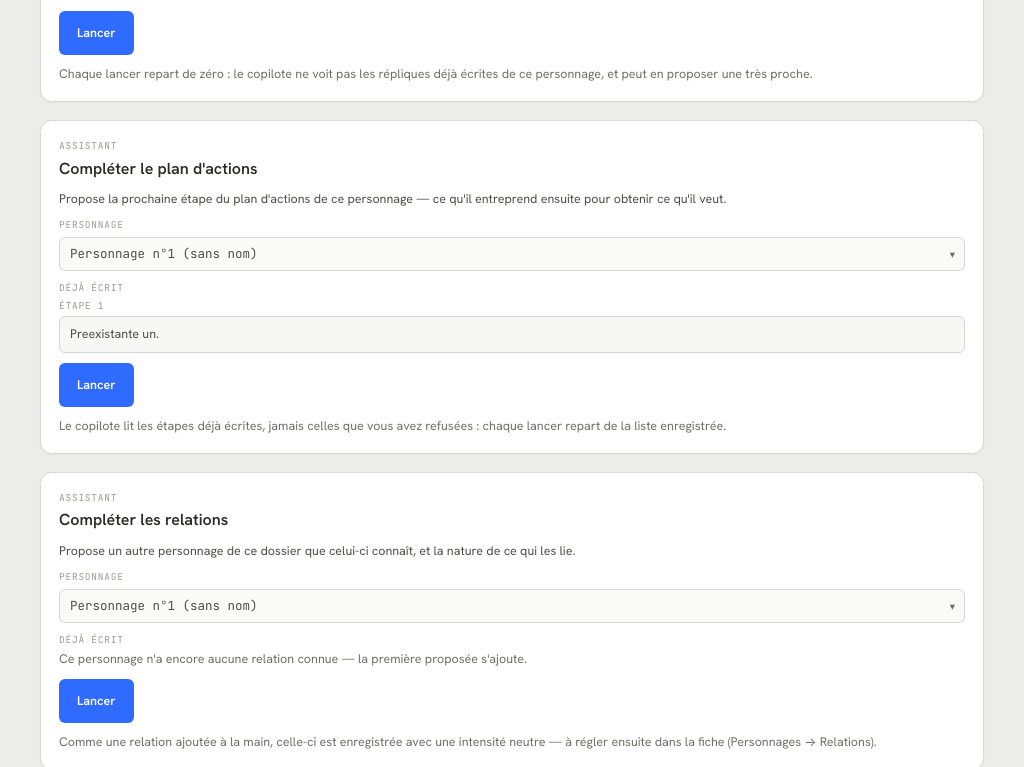
Test: planActions - etape posee par le CODE, 1 a k+N sans doublon › une etape ajoutee ENTRE le lancer et l acceptation : etape est pris sur la liste VIVE, pas sur le gel
The image size is (1024, 767).
(page scrolled)
# Le gel se fait ICI, sur UNE etape.
What coordinates should you click on to do the following:
click the button "Lancer" below "Preexistante un."
I would click on:
 (96, 385)
Its box is [59,363,134,407].
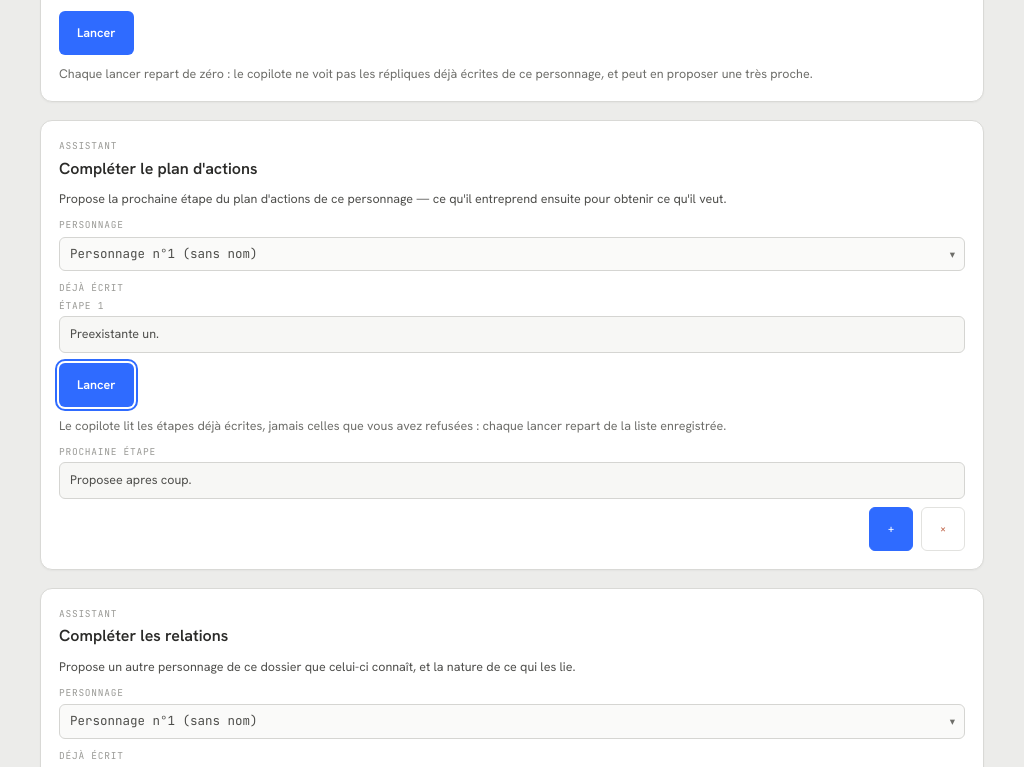
Result: the button named "Accepter la proposition" is shown
What coordinates should you click on to do the following:
click the button named "Accepter la proposition"
I would click on:
 (891, 529)
Its box is [869,507,913,551].
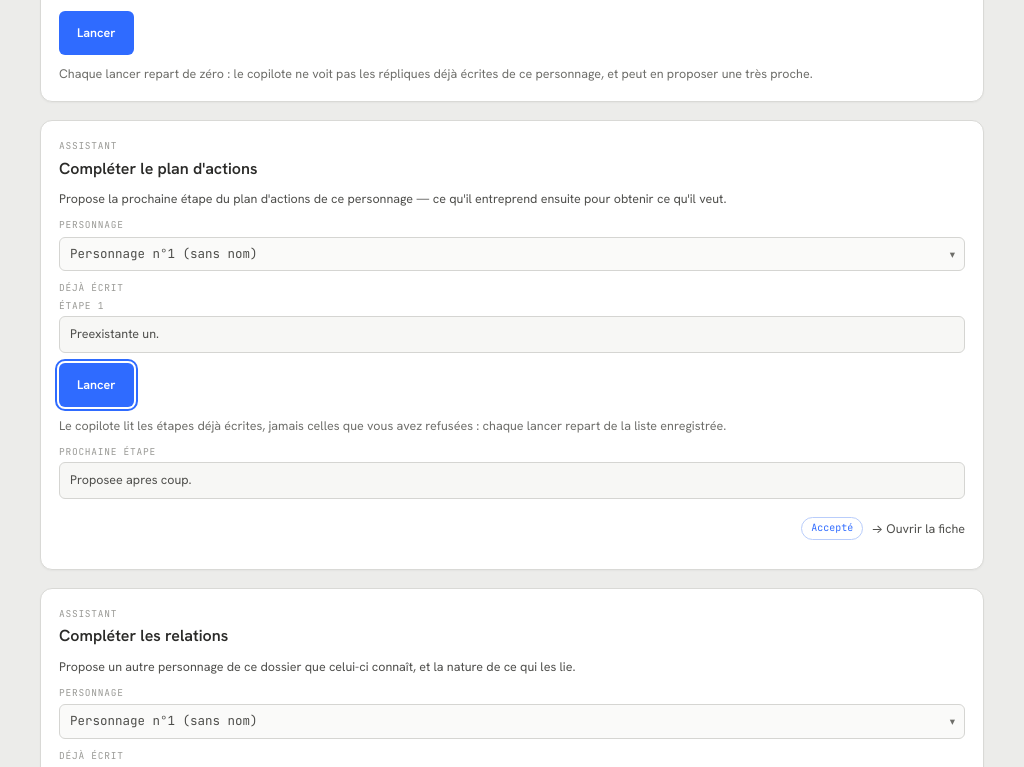
Result: the text "Accepté" is shown at [801,517,863,540]
